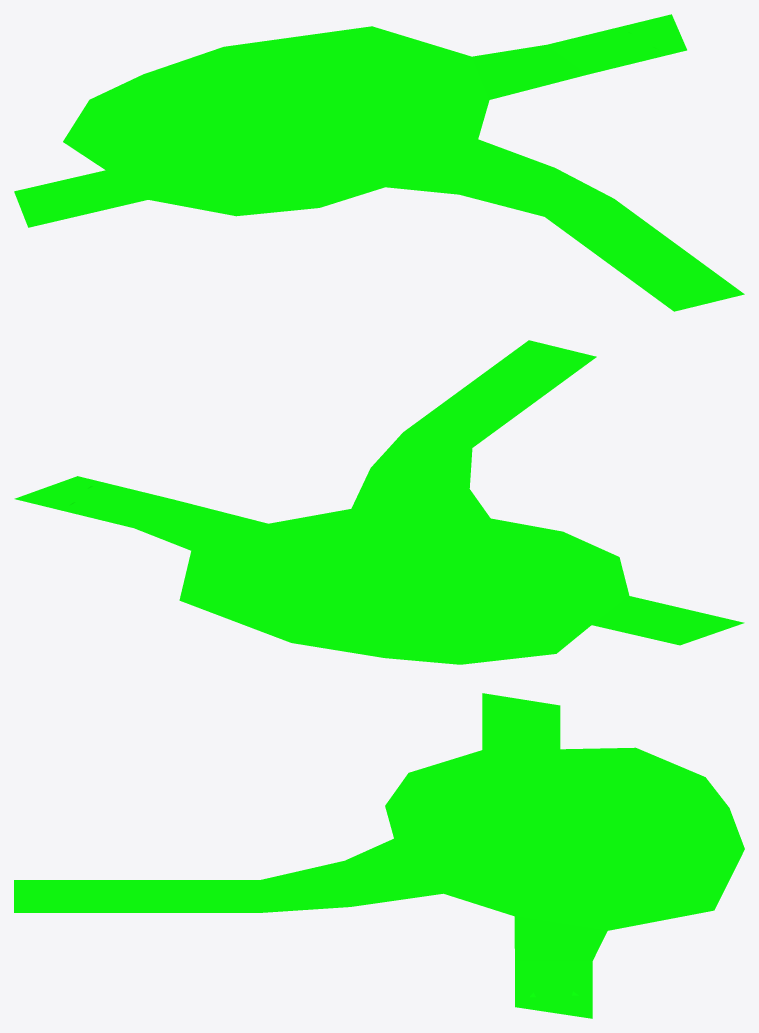
File: s03b_tb3-floor.glb
3 views of the same model, one above another, from view 1: azimuth 30°, elevation 25°; view 2: azimuth 150°, elevation 25°; view 3: azimuth 270°, elevation 25° (orthographic). The views are drawn at different scales.
Parts seen in each view (by area): view 1: collision_floor-colonly; view 2: collision_floor-colonly; view 3: collision_floor-colonly.
Boxes of the visible parts, x1=… form: collision_floor-colonly: x1=14, y1=14, x2=744, y2=311; collision_floor-colonly: x1=14, y1=340, x2=744, y2=664; collision_floor-colonly: x1=14, y1=693, x2=744, y2=1018.
Size of the model in its own units: 59.4 by 0.4688 by 56.33.
